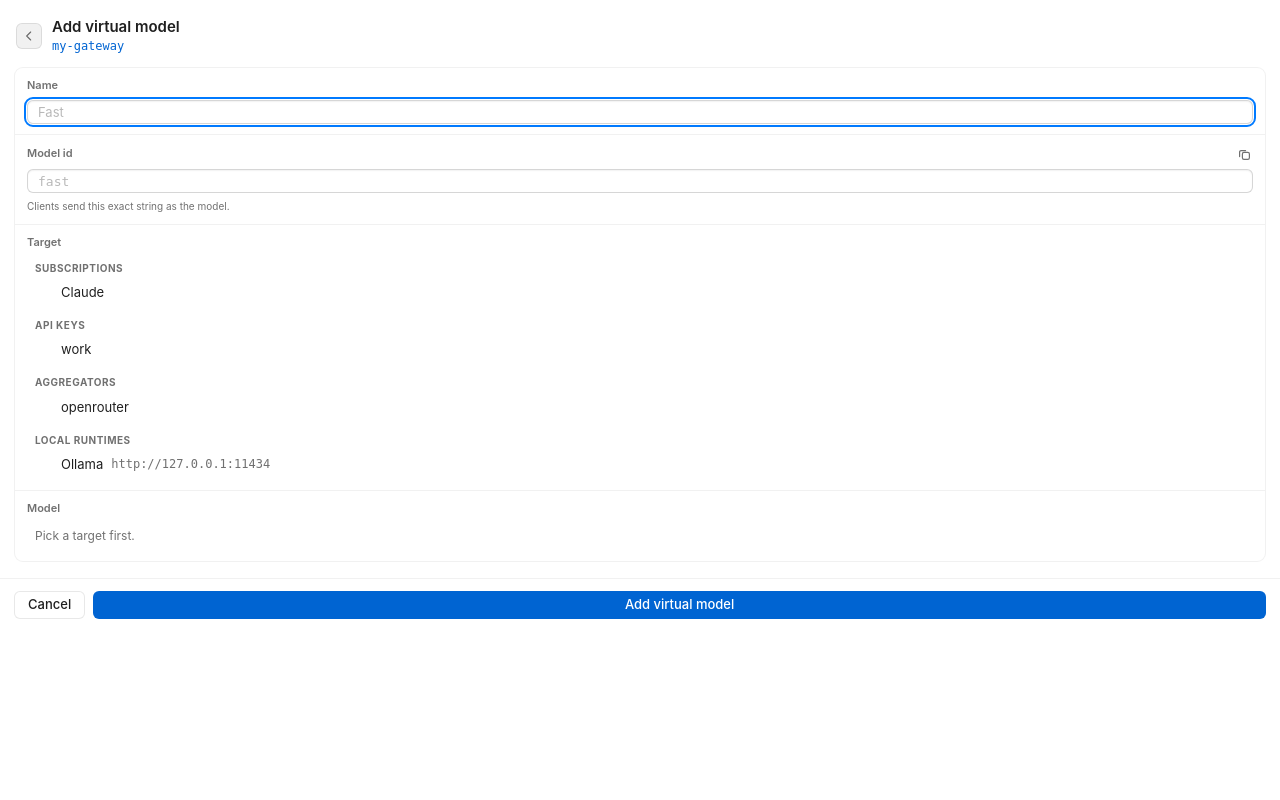
Scenario: picking a target fills the model list from that account, and never with free text
Click the button "work": (76, 349) [27, 334, 1253, 365]
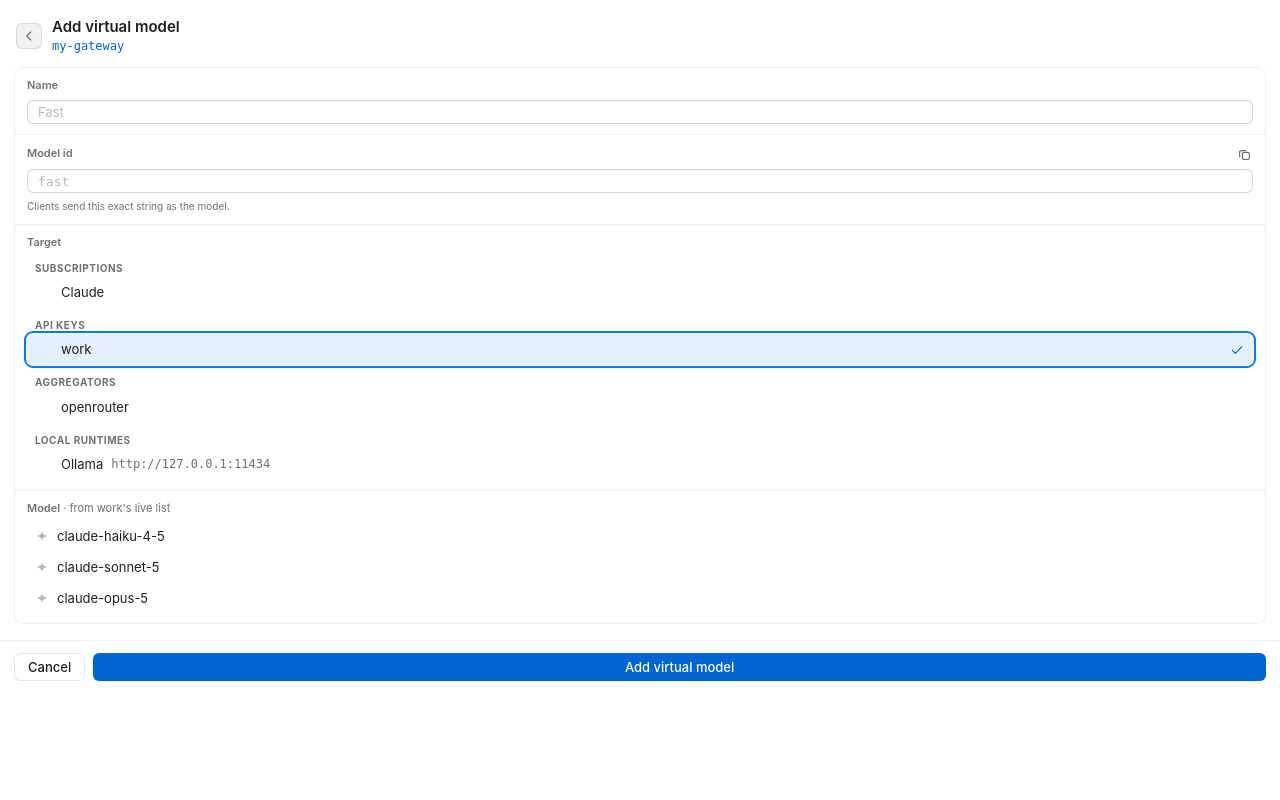
Expected: the button "claude-haiku-4-5" is shown, [27, 521, 1253, 552]
